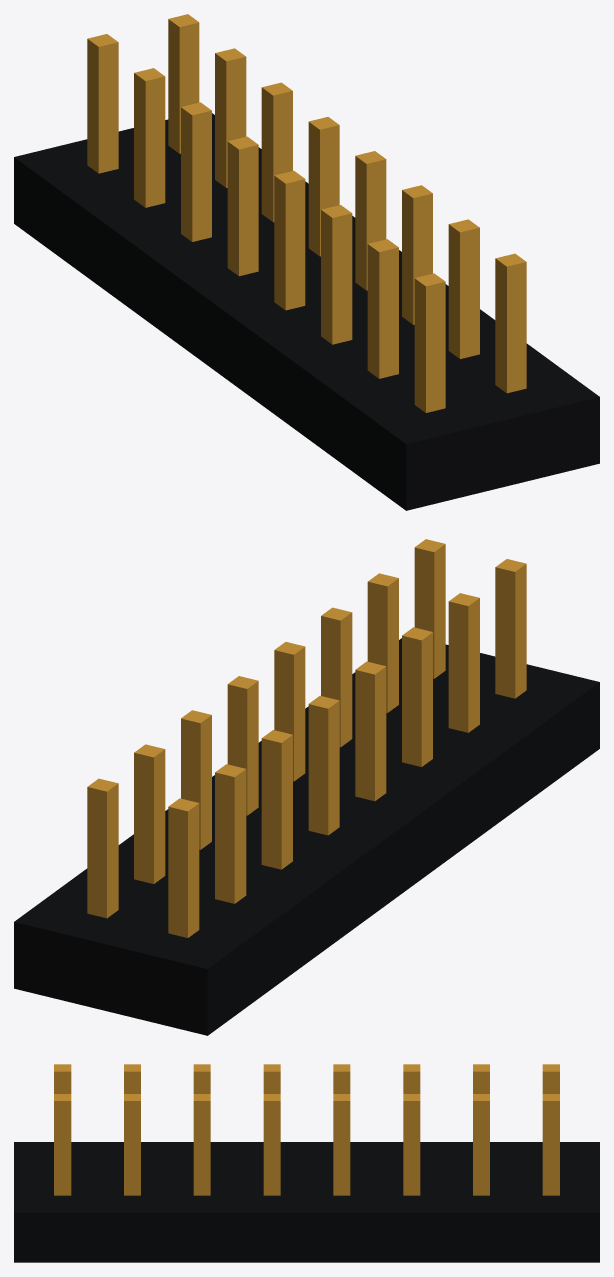
File: L32_USB32_TC2.fbx
3 views of the same model, one above another, from view 1: azimuth 30°, elevation 25°; view 2: azimuth 150°, elevation 25°; view 3: azimuth 270°, elevation 25° (orthographic). The views are drawn at different scales.
Parts seen in each view (by area): view 1: USB32_TC2_Black, USB32_TC2_Gold; view 2: USB32_TC2_Black, USB32_TC2_Gold; view 3: USB32_TC2_Black, USB32_TC2_Gold.
Part boxes in pixels (box(x1,y1,x2,y2)): USB32_TC2_Black: box(14, 113, 599, 510); USB32_TC2_Gold: box(87, 14, 526, 412); USB32_TC2_Black: box(14, 638, 599, 1035); USB32_TC2_Gold: box(87, 539, 526, 937); USB32_TC2_Black: box(14, 1142, 599, 1262); USB32_TC2_Gold: box(54, 1064, 559, 1195).
Bounding box in the file's own units: 0.608 × 0.58 × 2.13.
